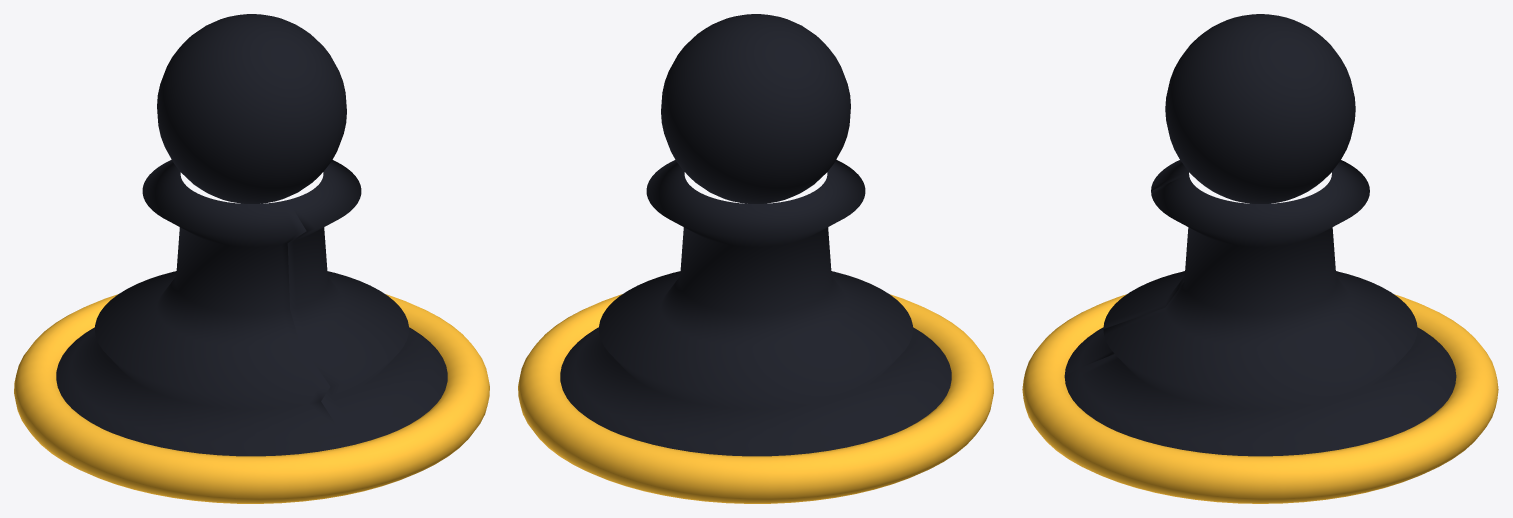
The picture shows the model from 3 angles, left to right: view 1: azimuth 30°, elevation 25°; view 2: azimuth 150°, elevation 25°; view 3: azimuth 270°, elevation 25°; orthographic projection.
Size of the model in its own units: 1 by 0.9 by 1.
